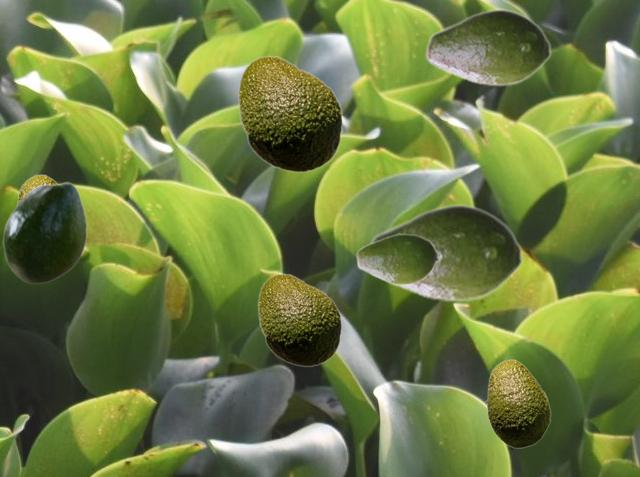avocado: (366, 203, 523, 302), (237, 55, 342, 172), (425, 8, 551, 86), (2, 181, 86, 283), (257, 273, 341, 366), (484, 359, 550, 447), (355, 232, 442, 285), (16, 174, 57, 203)
